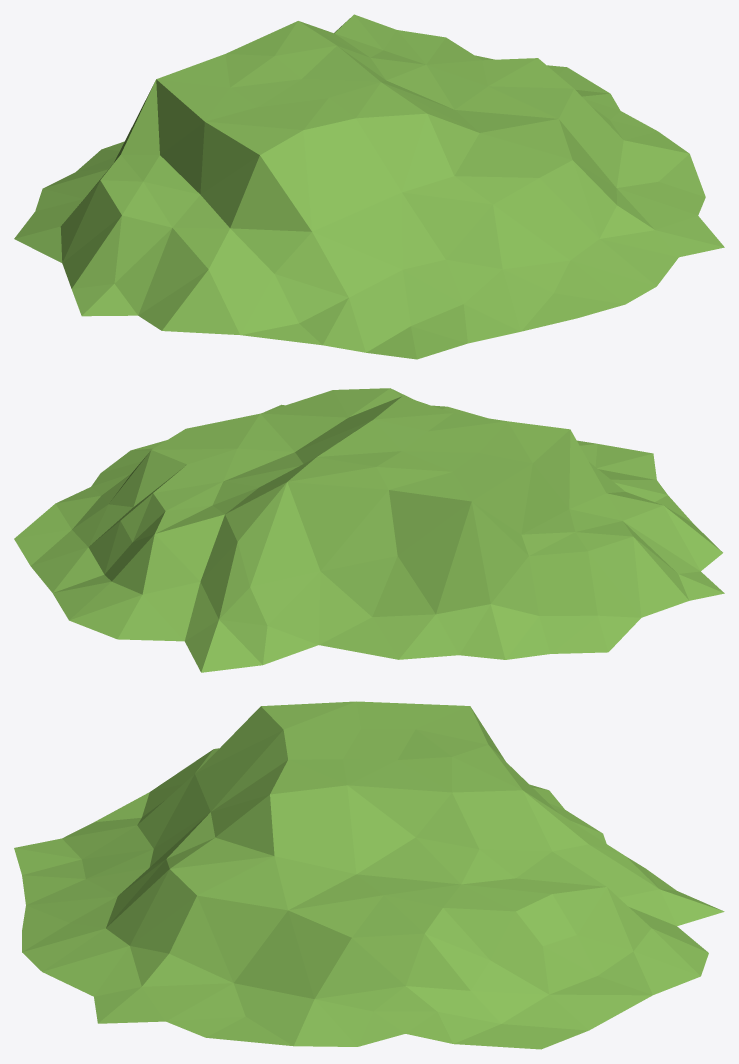
The model's file is MT_Mountain_L_b_15_LOD.fbx.
3 views of the same model, one above another, from view 1: azimuth 30°, elevation 25°; view 2: azimuth 150°, elevation 25°; view 3: azimuth 270°, elevation 25° (orthographic). The views are drawn at different scales.
Parts seen in each view (by area): view 1: MT_Mountain_L_b_15_LOD0; view 2: MT_Mountain_L_b_15_LOD0; view 3: MT_Mountain_L_b_15_LOD0.
Part boxes in pixels (left/top/right/bottom): MT_Mountain_L_b_15_LOD0: left=14, top=14, right=724, bottom=359; MT_Mountain_L_b_15_LOD0: left=14, top=388, right=724, bottom=672; MT_Mountain_L_b_15_LOD0: left=14, top=701, right=724, bottom=1049.
Size of what is drawn, in the model's own units: 3515 by 712 by 3477.
